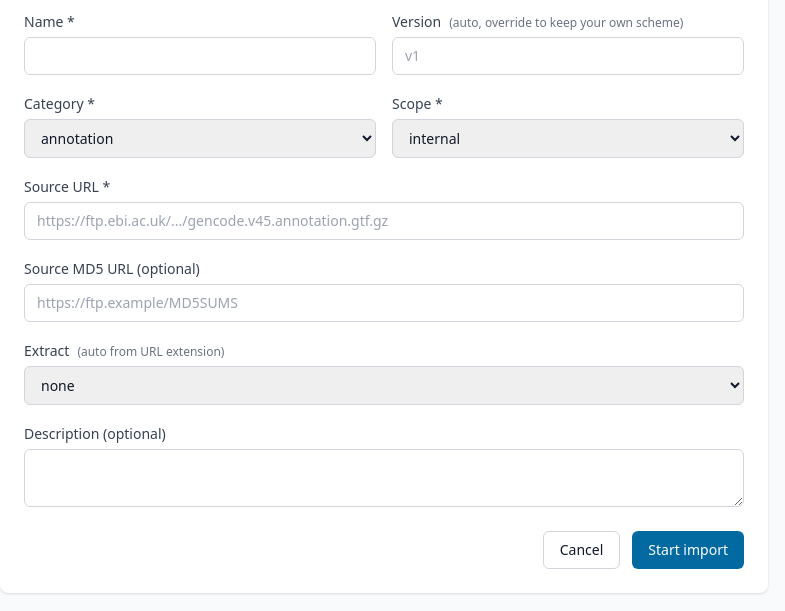
Test: UrlImportReferenceForm - auto-version prefill › Predicts the next version after the user types a name
Type "10x Human GEX" into the field labelled "Name *" at point(200, 56), box top-left (24, 37), bottom-right (376, 75)
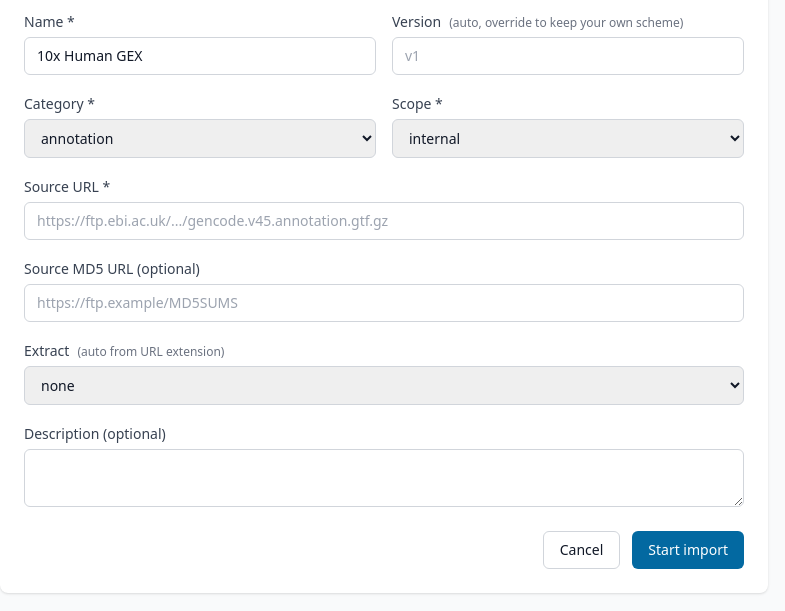
Leave the field labelled "Name *", box top-left (24, 37), bottom-right (376, 75)
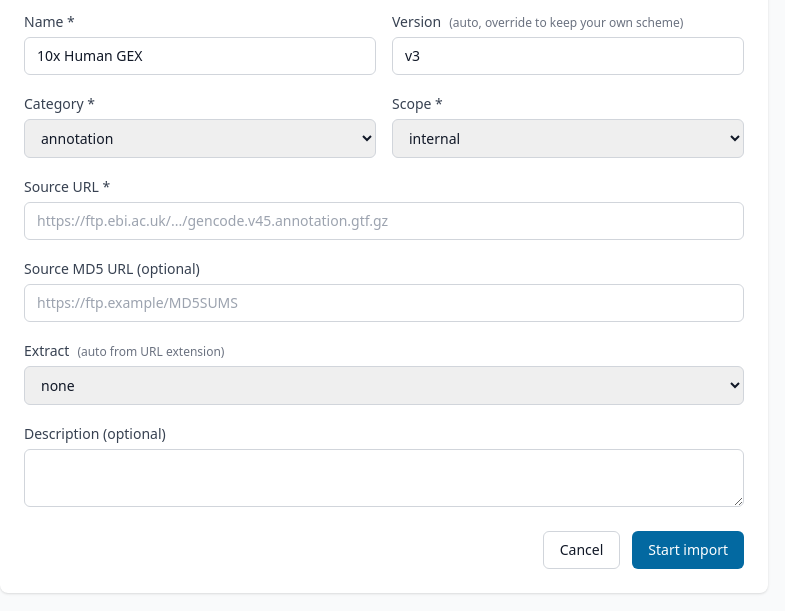
Now the field labelled "Version(auto, override to keep your own scheme)" holds "v3", box top-left (392, 37), bottom-right (744, 75)
